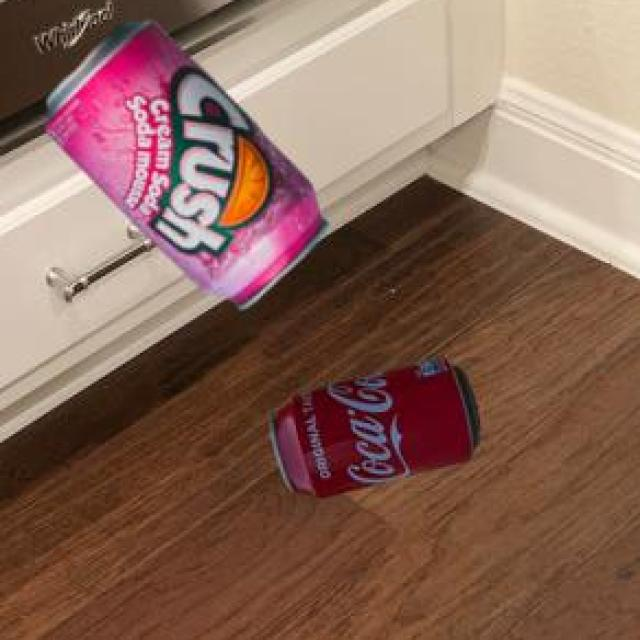logam: (43, 21, 325, 306), (268, 354, 477, 494)
